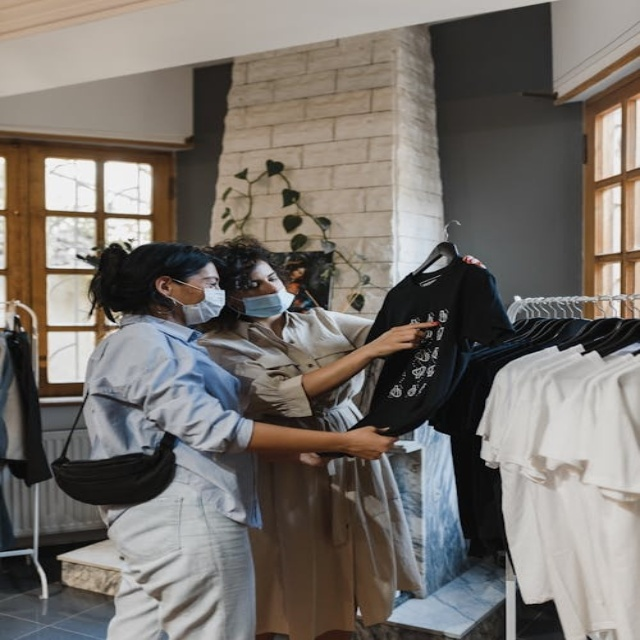Mascara: (167, 280, 228, 326), (229, 285, 294, 319)
Sin_gafas: (242, 267, 287, 291), (182, 271, 228, 286)
Sin_guantes: (358, 315, 444, 361), (335, 419, 403, 461)
